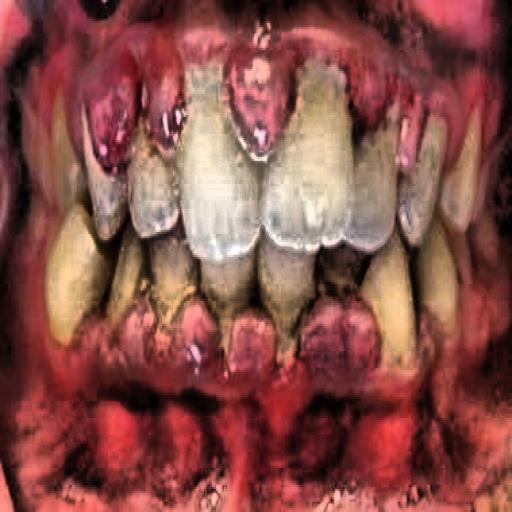Gingivitis: (105, 282, 297, 414), (68, 31, 198, 183), (344, 50, 484, 177), (209, 25, 307, 176), (308, 282, 400, 411)
